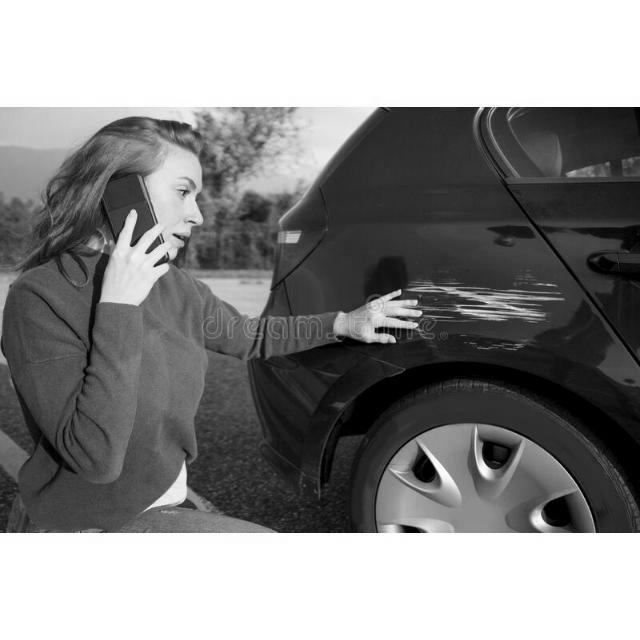quaterpanel-dent: (300, 192, 580, 399)
